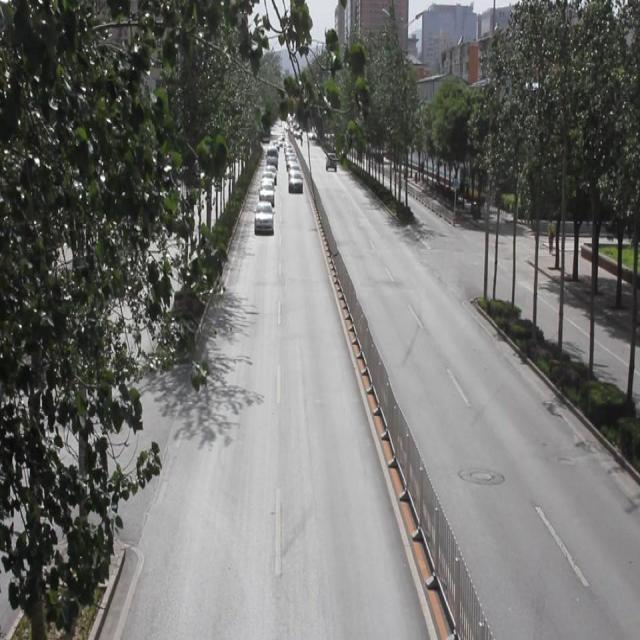car: (254, 200, 272, 236), (258, 183, 274, 208)
